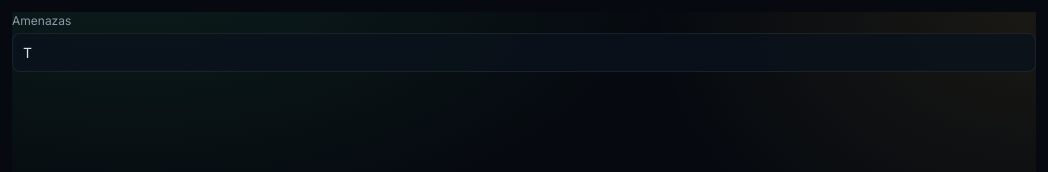
Test: CampoCodigosCatalogo › muestra sugerencias al escribir un prefijo MITRE
Focus the field labelled "Amenazas" at (524, 52), box left=12, top=33, right=1036, bottom=72
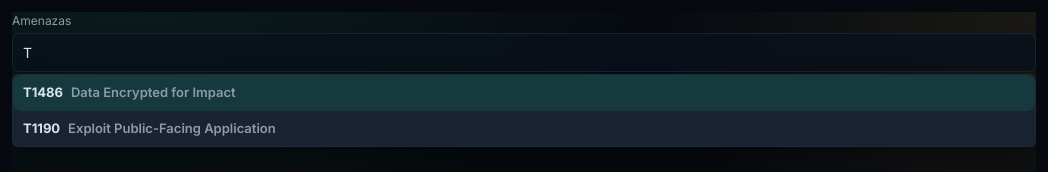
Check: the text "T1486" is shown, box left=23, top=84, right=63, bottom=100
Check: the text "T1190" is shown, box left=23, top=120, right=60, bottom=136
